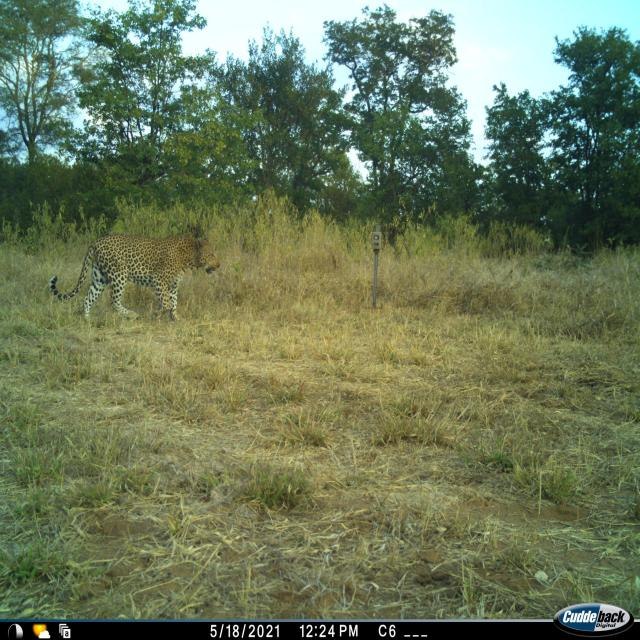Leopard: (52, 227, 225, 332)
